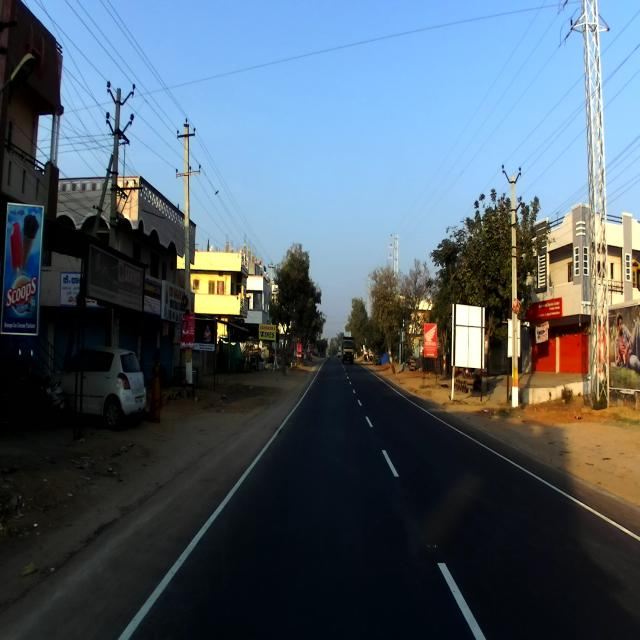car ahead at: (82, 344, 146, 428)
electric pole ahead at: (498, 155, 534, 415), (172, 116, 202, 396)
